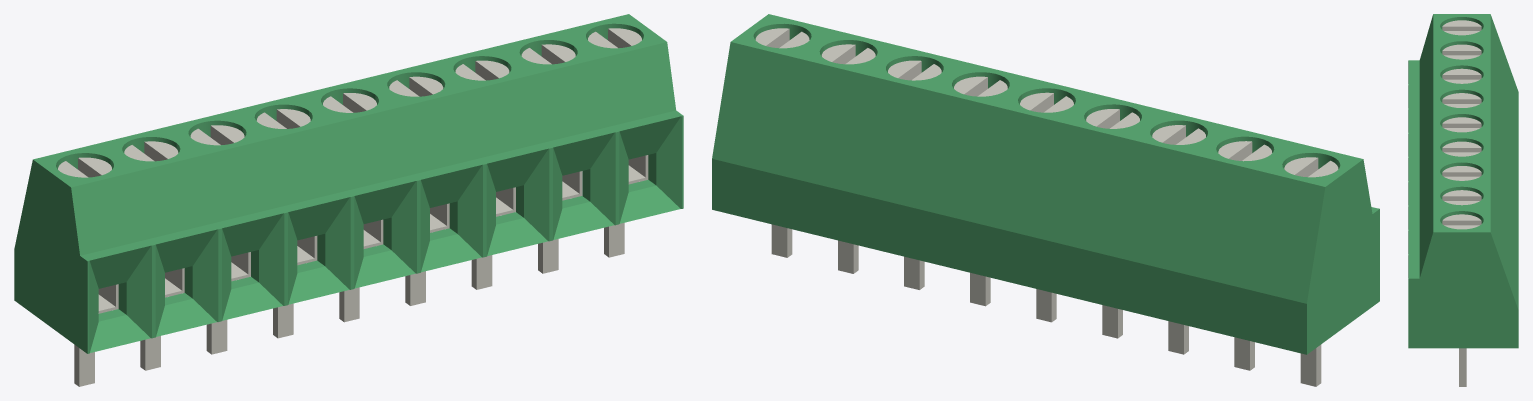
Rendered from kc-terminalblock_phoenix_mkds-1-9-3.81_1x09_p3.81mm_horizontal.glb.
3 views of the same model, side by side, from view 1: azimuth 30°, elevation 25°; view 2: azimuth 150°, elevation 25°; view 3: azimuth 270°, elevation 25° (orthographic). The views are drawn at different scales.
Parts seen in each view (by area): view 1: 0.08333333333333333_0.4166666666666667_0.16666666666666666_0, 0.6666666666666666_0.6666666666666666_0.5833333333333334_0.8; view 2: 0.08333333333333333_0.4166666666666667_0.16666666666666666_0, 0.6666666666666666_0.6666666666666666_0.5833333333333334_0.8; view 3: 0.08333333333333333_0.4166666666666667_0.16666666666666666_0, 0.6666666666666666_0.6666666666666666_0.5833333333333334_0.8.
Part boxes in pixels (x1,y1,x2,y2): 0.08333333333333333_0.4166666666666667_0.16666666666666666_0: [14, 14, 683, 353]; 0.6666666666666666_0.6666666666666666_0.5833333333333334_0.8: [58, 28, 648, 386]; 0.08333333333333333_0.4166666666666667_0.16666666666666666_0: [712, 14, 1379, 354]; 0.6666666666666666_0.6666666666666666_0.5833333333333334_0.8: [755, 28, 1338, 386]; 0.08333333333333333_0.4166666666666667_0.16666666666666666_0: [1408, 14, 1518, 348]; 0.6666666666666666_0.6666666666666666_0.5833333333333334_0.8: [1442, 20, 1481, 386].
Size of the model in its own units: 3.43 by 1.2 by 0.73.
